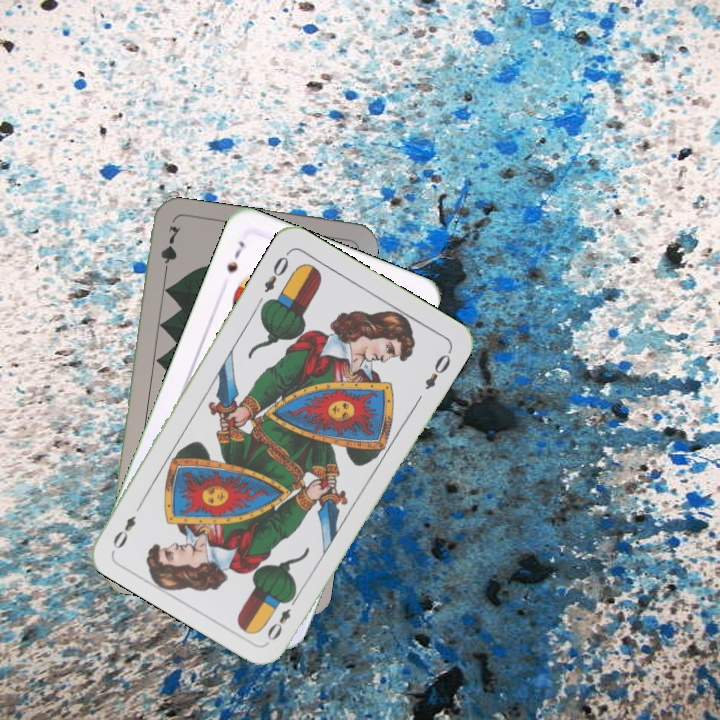EO: (263, 590, 301, 644), (260, 248, 292, 296)
G7: (156, 221, 183, 280)
S7: (222, 237, 248, 275)
